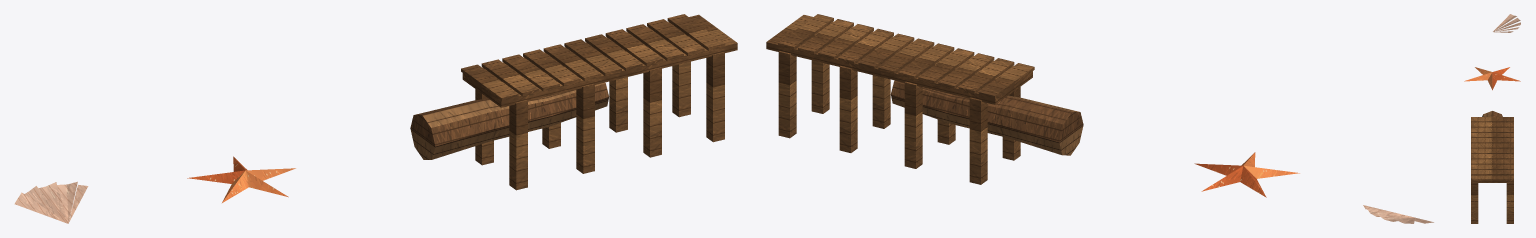
The model's file is piezas_playa.glb.
3 views of the same model, side by side, from view 1: azimuth 30°, elevation 25°; view 2: azimuth 150°, elevation 25°; view 3: azimuth 270°, elevation 25° (orthographic). The views are drawn at different scales.
Visible parts, largest first — view 1: Muelle, TroncoVarado, Concha, EstrellaMar; view 2: Muelle, TroncoVarado, EstrellaMar, Concha; view 3: Muelle, EstrellaMar, Concha, TroncoVarado.
Part boxes in pixels (x1,y1,x2,y2): Muelle: (461,14,737,190); TroncoVarado: (410,82,608,159); Concha: (14,181,88,223); EstrellaMar: (187,156,295,202); Muelle: (766,14,1034,184); TroncoVarado: (891,80,1083,155); EstrellaMar: (1194,152,1299,197); Concha: (1363,205,1433,223); Muelle: (1471,117,1513,223); EstrellaMar: (1464,67,1520,90); Concha: (1493,14,1520,32); TroncoVarado: (1482,111,1502,116).
Size of the model in its own units: 34.88 by 4.62 by 4.95.
Materials: 4 (4 with a texture image).
